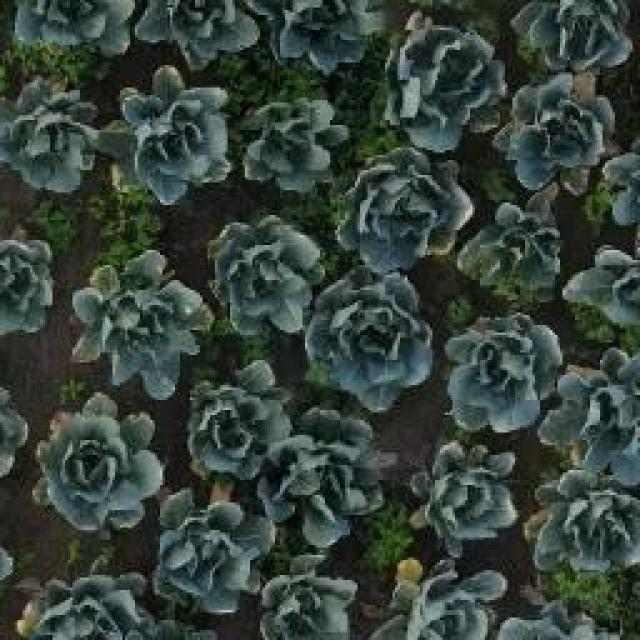cabbage: (71, 249, 209, 394), (304, 264, 439, 411), (33, 388, 166, 531), (101, 63, 235, 203), (374, 9, 507, 148), (334, 147, 474, 277), (260, 414, 384, 552), (444, 310, 564, 436), (499, 69, 616, 188), (208, 214, 324, 332), (158, 484, 262, 615), (527, 470, 640, 588), (541, 348, 640, 482), (406, 438, 520, 554), (182, 360, 294, 474), (457, 189, 566, 302), (0, 70, 100, 192), (372, 555, 512, 640), (239, 86, 349, 188), (20, 567, 160, 640), (512, 0, 638, 81), (245, 0, 380, 74), (132, 0, 260, 74), (256, 553, 360, 640), (4, 0, 144, 62), (0, 229, 62, 343)
